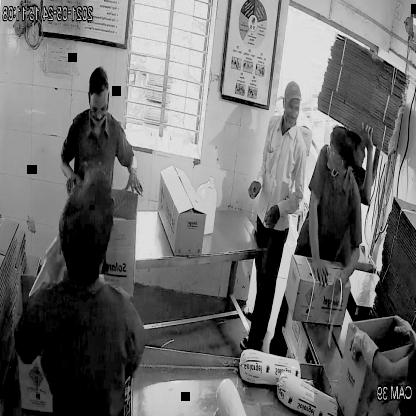goggles: (89, 99, 109, 120)
no_goggles: (282, 101, 303, 117)
